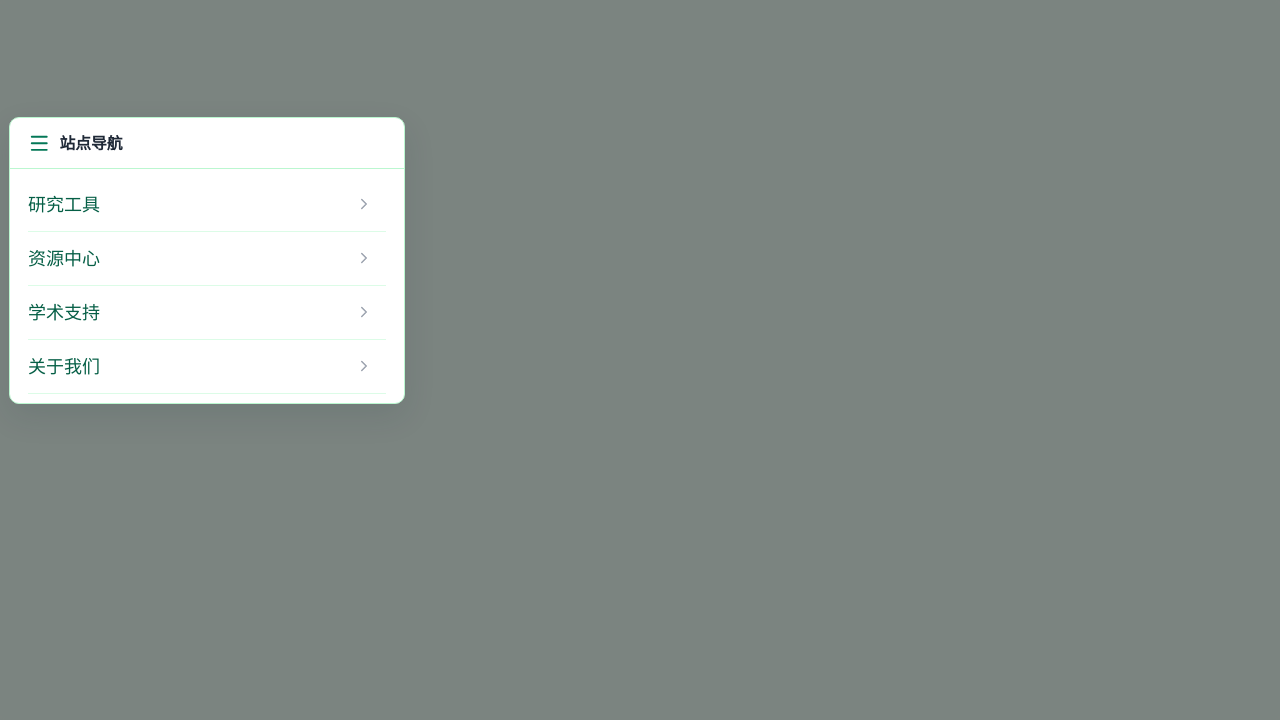
Test case: MobileSiteMenu › expands from the label and navigates from the right arrow
The width and height of the screenshot is (1280, 720).
Click the button "研究工具" at (64, 204), box x1=28 y1=182 x2=341 y2=226
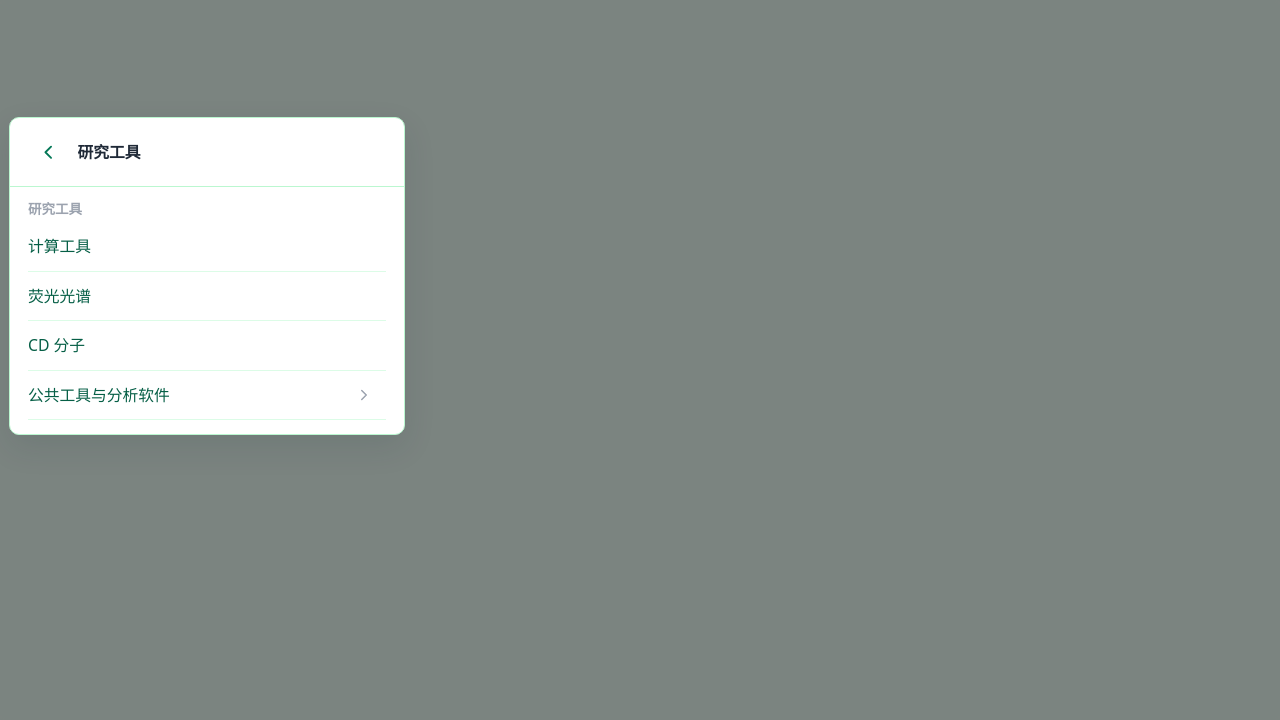
Expected: the button "公共工具与分析软件" is shown, x1=28 y1=373 x2=341 y2=418
